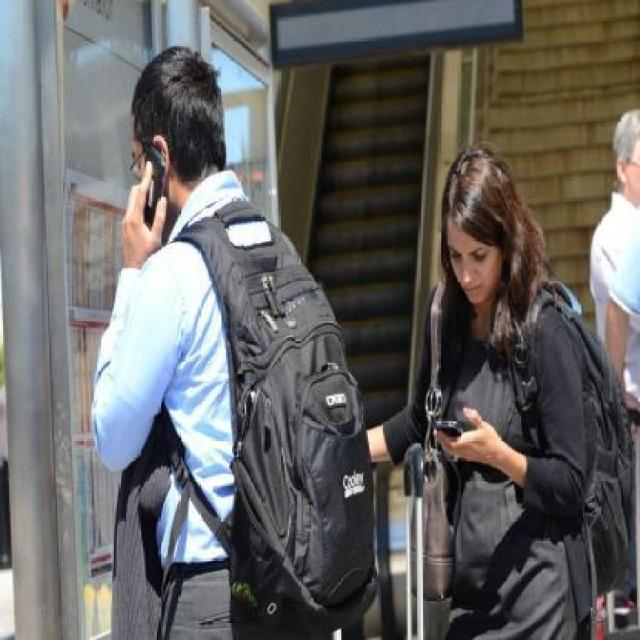backpack: (205, 198, 382, 640), (558, 292, 640, 605), (512, 288, 545, 449)
